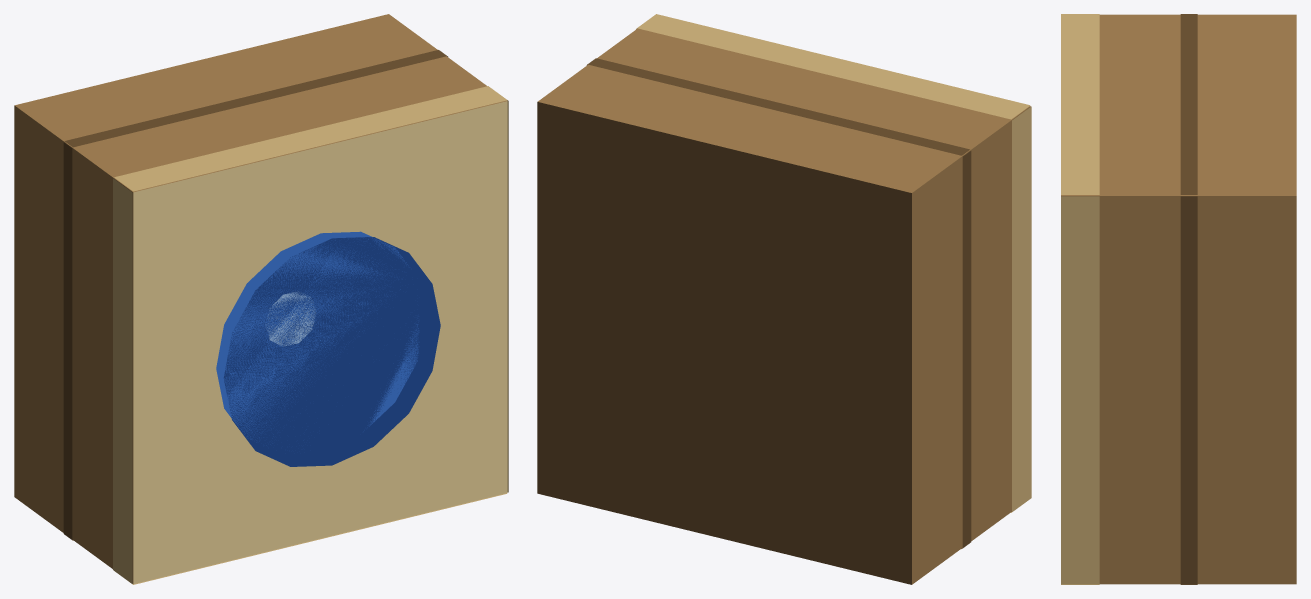
File: soft_switch.obj
3 renders of one model, left to right at view 1: azimuth 30°, elevation 25°; view 2: azimuth 150°, elevation 25°; view 3: azimuth 270°, elevation 25°, orthographic.
Visible parts, largest first — view 1: soft_switch, soft_switch_decal; view 2: soft_switch, soft_switch_decal; view 3: soft_switch, soft_switch_decal.
Part boxes in pixels (x1,y1,x2,y2): soft_switch: [14, 14, 507, 583]; soft_switch_decal: [63, 50, 508, 584]; soft_switch: [537, 28, 1030, 584]; soft_switch_decal: [586, 14, 1031, 548]; soft_switch: [1061, 14, 1296, 584]; soft_switch_decal: [1061, 14, 1197, 584].
Bounding box in the file's own units: 1 × 1 × 0.552.
